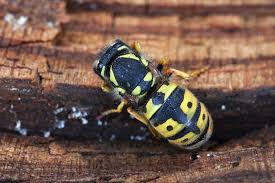chax: (81, 33, 239, 160)
